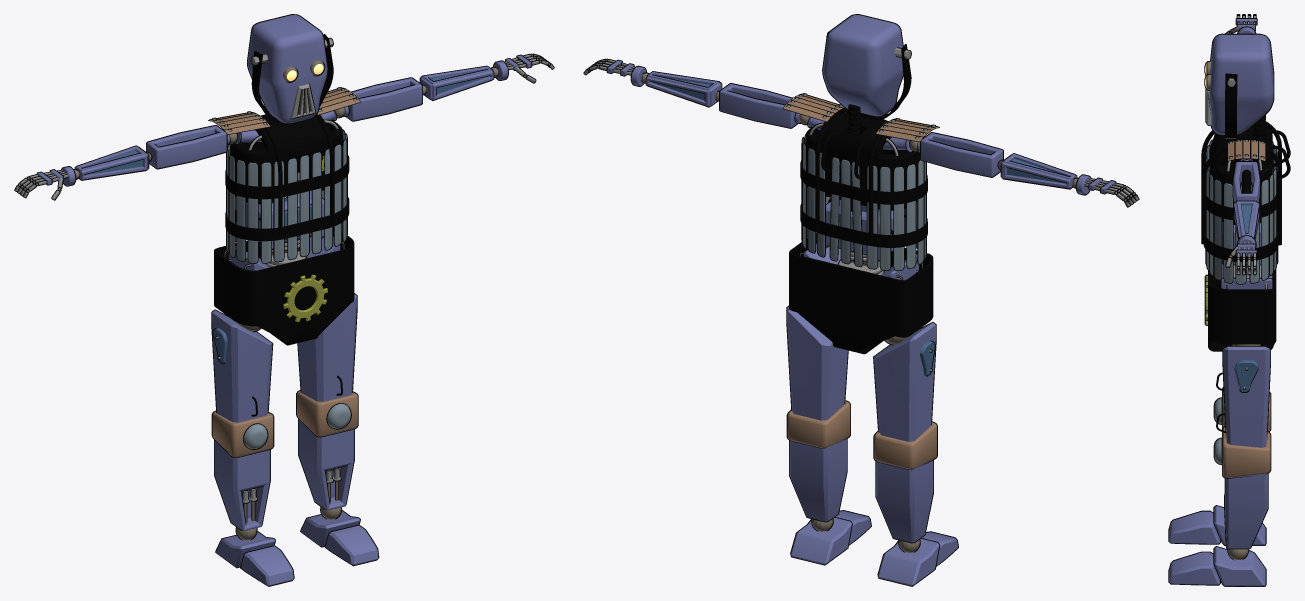
The model's file is Robot3L.fbx.
The picture shows the model from 3 angles, left to right: view 1: azimuth 30°, elevation 25°; view 2: azimuth 150°, elevation 25°; view 3: azimuth 270°, elevation 25°; orthographic projection. The views are drawn at different scales.
Visible parts, largest first — view 1: Circle; view 2: Circle; view 3: Circle.
Part boxes in pixels (x1,y1,x2,y2): Circle: (14,14,554,586); Circle: (583,14,1139,586); Circle: (1168,14,1290,586).
Size of the model in its own units: 428 by 402 by 86.3.
